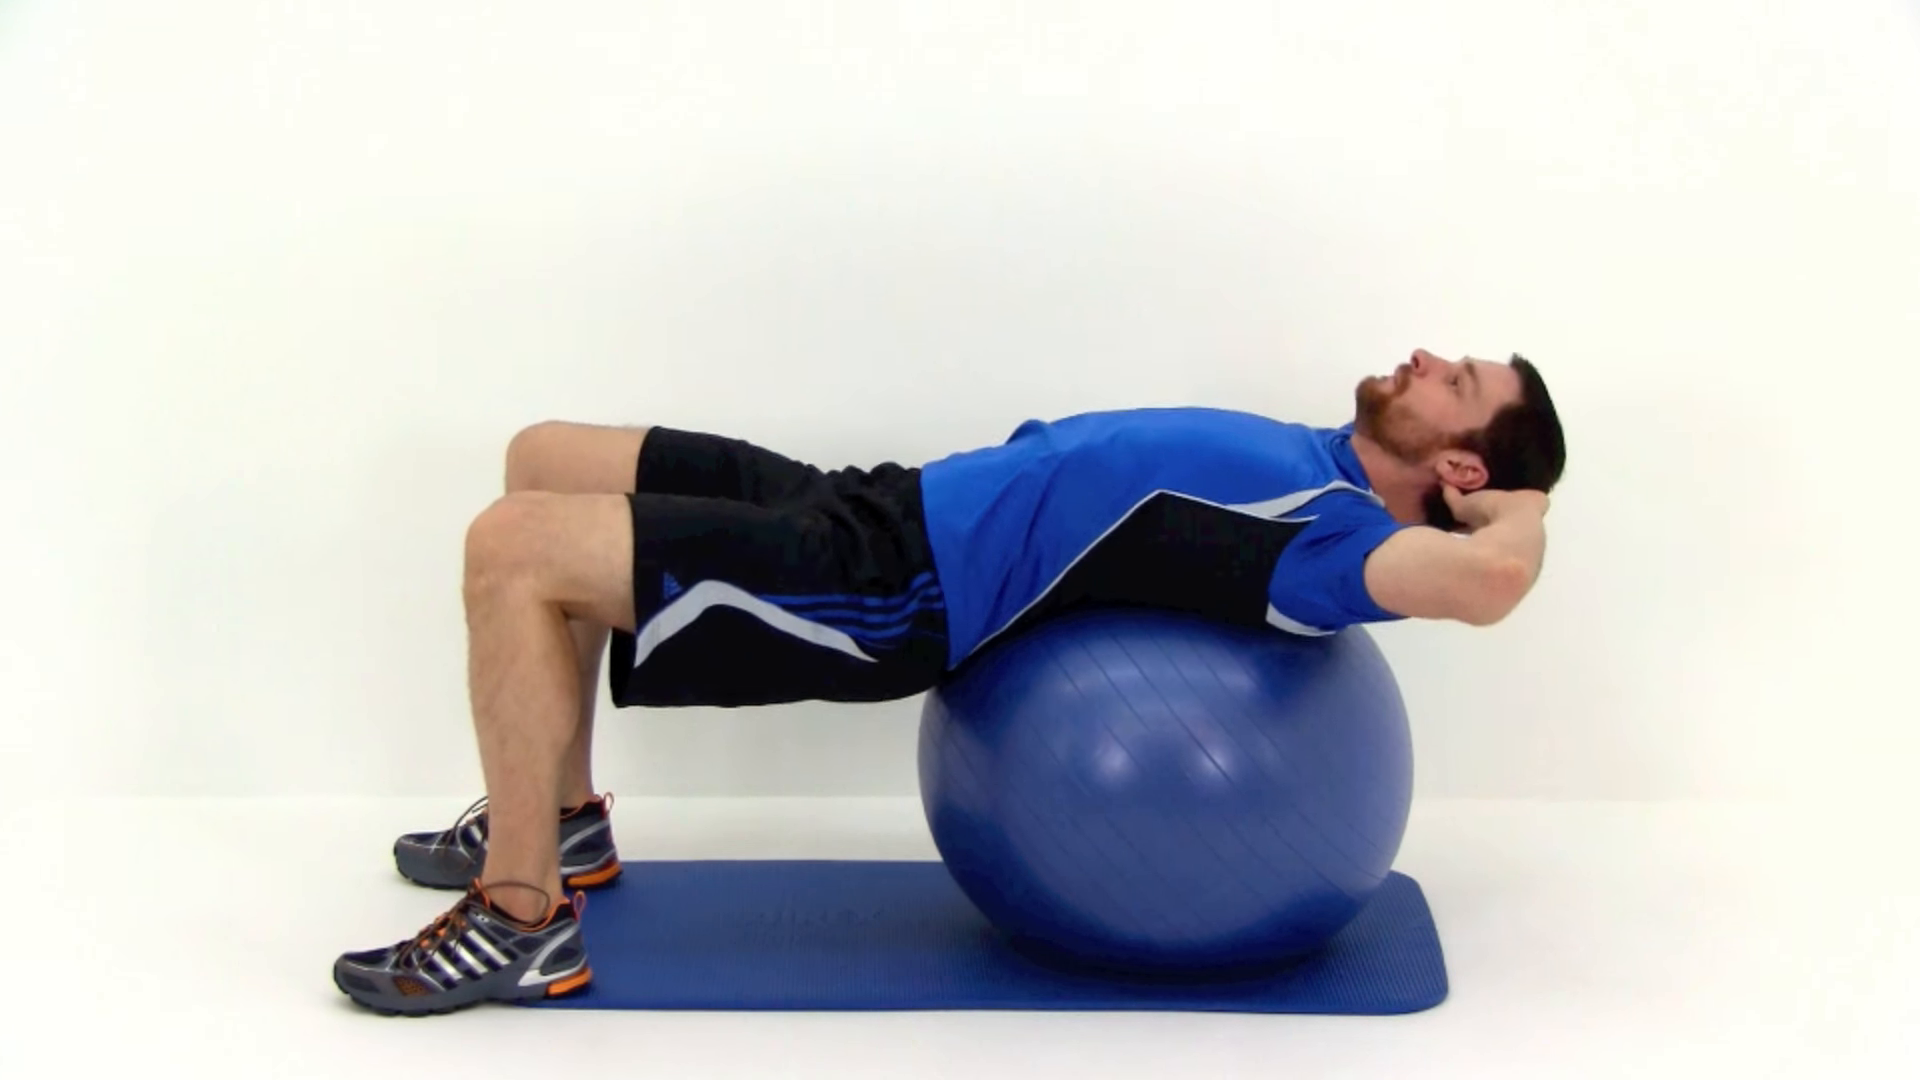yogaball: (911, 568, 1424, 996)
